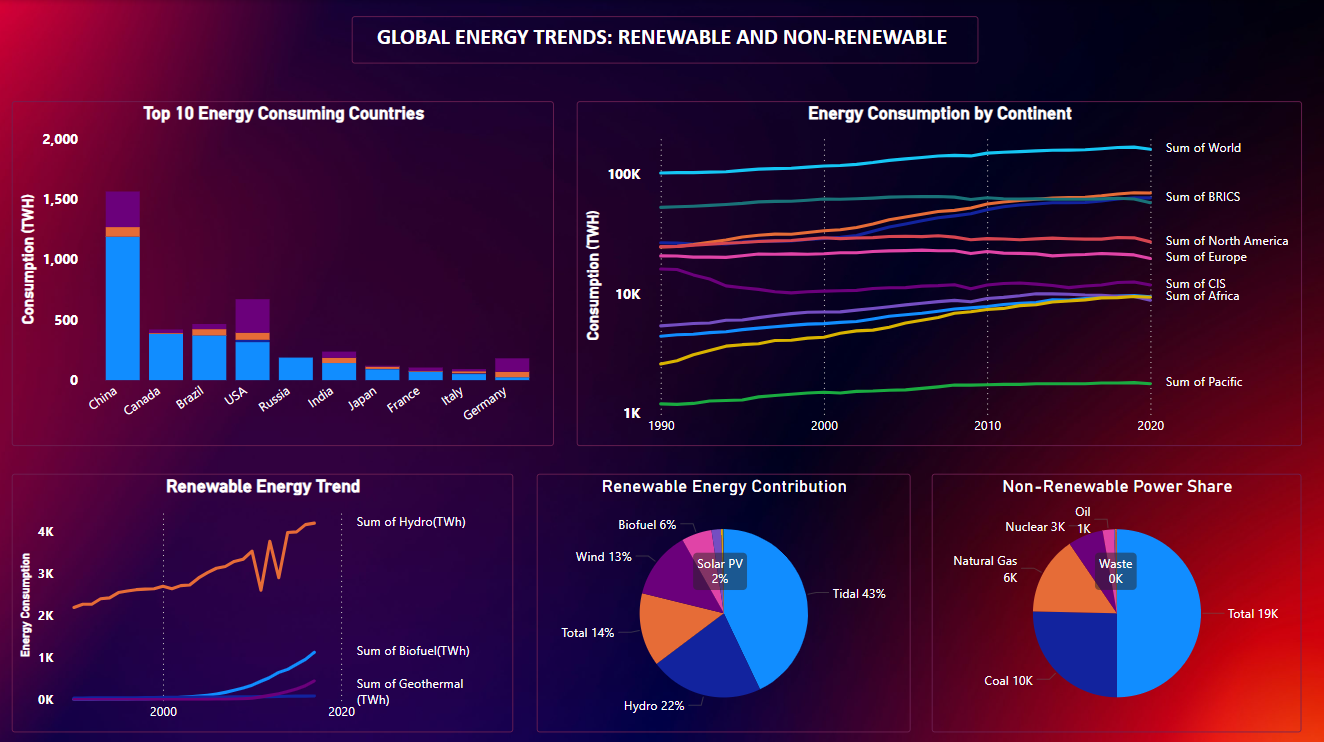

The page's visual inventory and layout, read from the dashboard file:
{"tool":"powerbi","page":{"name":"Page 1","canvas":[1280,720],"ordinal":0},"visuals":[{"type":"lineChart","title":"Renewable Energy Trend","fields":{"Category":["renewablePowerGeneration97-17.Year"],"Y":["Sum(renewablePowerGeneration97-17.Biofuel(TWh))","Sum(renewablePowerGeneration97-17.Geothermal (TWh))","Sum(renewablePowerGeneration97-17.Hydro(TWh))","Sum(renewablePowerGeneration97-17.Solar PV (TWh))"]},"box":[13.3,457.2,483.8,249.7],"z":0},{"type":"pieChart","title":"Renewable Energy Contribution","fields":{"Category":["renewablesTotalPowerGeneration.Mode of Generation"],"Y":["Sum(renewablesTotalPowerGeneration.Contribution (TWh))"]},"box":[520,457.2,360.7,249.7],"z":1000},{"type":"lineChart","title":"Energy Consumption by Continent","fields":{"Category":["Continent_Consumption_TWH.Year"],"Y":["Sum(Continent_Consumption_TWH.Africa)","Sum(Continent_Consumption_TWH.BRICS)","Sum(Continent_Consumption_TWH.Asia)","Sum(Continent_Consumption_TWH.CIS)","Sum(Continent_Consumption_TWH.Europe)","Sum(Continent_Consumption_TWH.Latin America)","Sum(Continent_Consumption_TWH.Middle-East)","Sum(Continent_Consumption_TWH.North America)","Sum(Continent_Consumption_TWH.OECD)","Sum(Continent_Consumption_TWH.Pacific)","Sum(Continent_Consumption_TWH.World)"]},"box":[558.6,97.7,699.7,333],"z":2000},{"type":"textbox","box":[341.4,15.7,604.4,45.8],"z":3000},{"type":"pieChart","title":"Non-Renewable Power Share","fields":{"Category":["nonRenewablesTotalPowerGeneration.Mode of Generation"],"Y":["Sum(nonRenewablesTotalPowerGeneration.Contribution (TWh))"]},"box":[901.2,457.2,357.1,249.7],"z":4000},{"type":"columnChart","title":"Top 10 Energy Consuming Countries","fields":{"Category":["top20CountriesPowerGeneration.Country"],"Y":["Sum(top20CountriesPowerGeneration.Hydro(TWh))","Sum(top20CountriesPowerGeneration.Geothermal (TWh))","Sum(top20CountriesPowerGeneration.Solar PV (TWh))","Sum(top20CountriesPowerGeneration.Biofuel(TWh))"]},"box":[13.3,97.7,523.6,333],"z":5000}]}

Visuals, with their boxes in screenshot pixels (x1, y1, x2, y2), scaled from the page's 1280x720 canvas onto the 1324x742 screenshot:
"Renewable Energy Trend" lineChart: left=14, top=471, right=514, bottom=728
"Renewable Energy Contribution" pieChart: left=538, top=471, right=911, bottom=728
"Energy Consumption by Continent" lineChart: left=578, top=101, right=1302, bottom=444
textbox: left=353, top=16, right=978, bottom=63
"Non-Renewable Power Share" pieChart: left=932, top=471, right=1302, bottom=728
"Top 10 Energy Consuming Countries" columnChart: left=14, top=101, right=555, bottom=444
